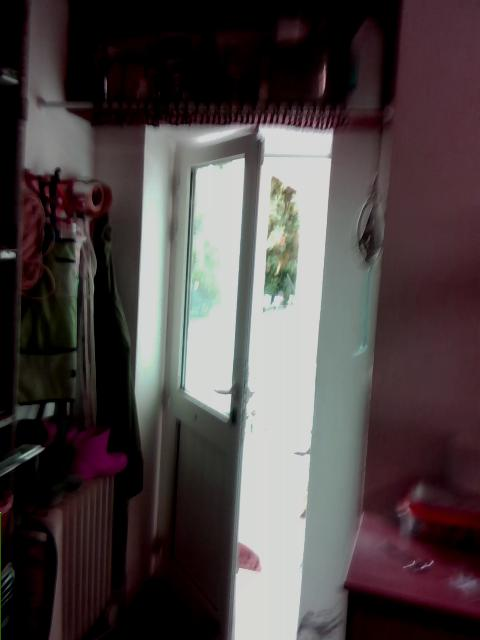semi_door: (154, 123, 334, 639)
